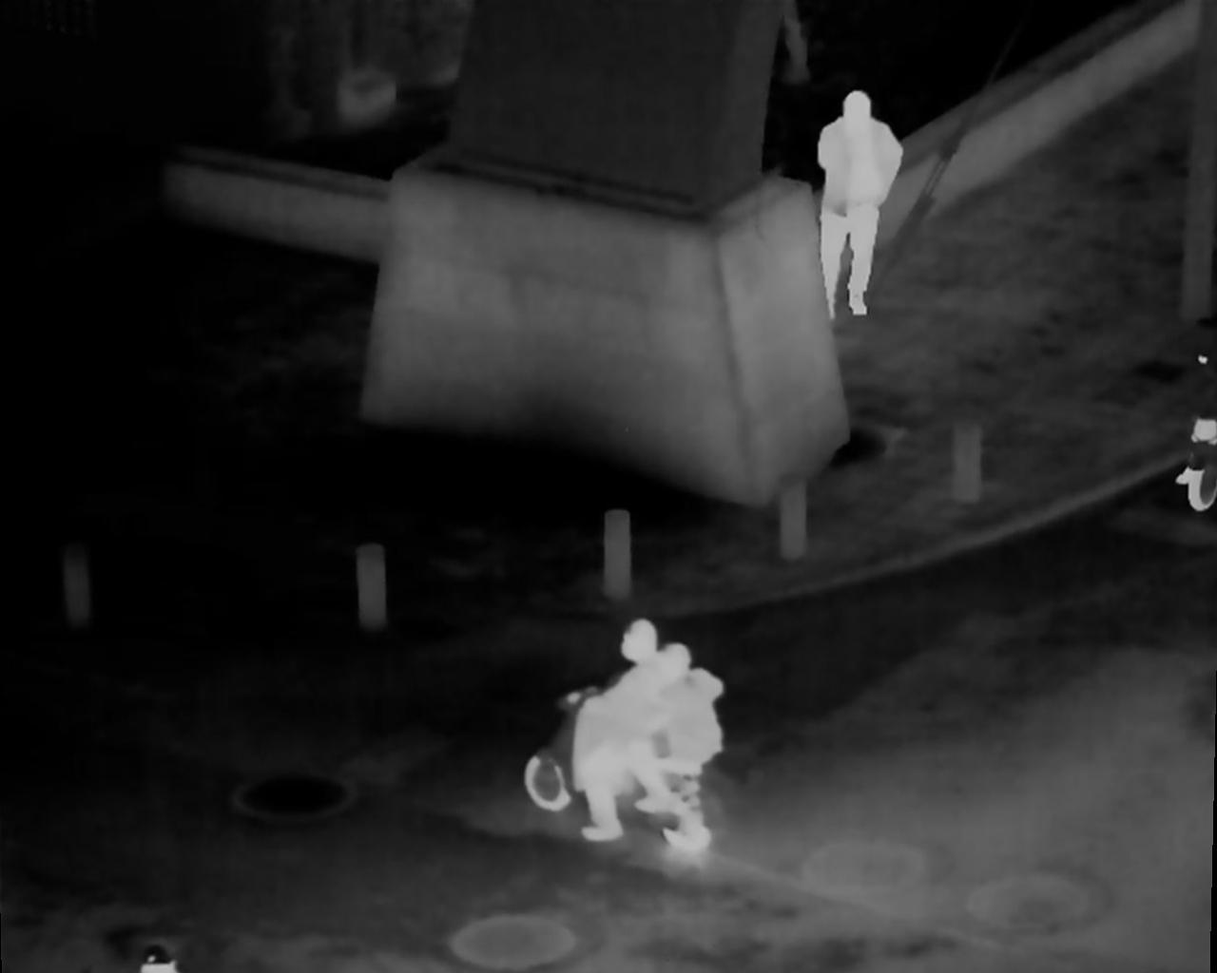person: (570, 617, 684, 836), (802, 88, 906, 322), (647, 645, 727, 852)
